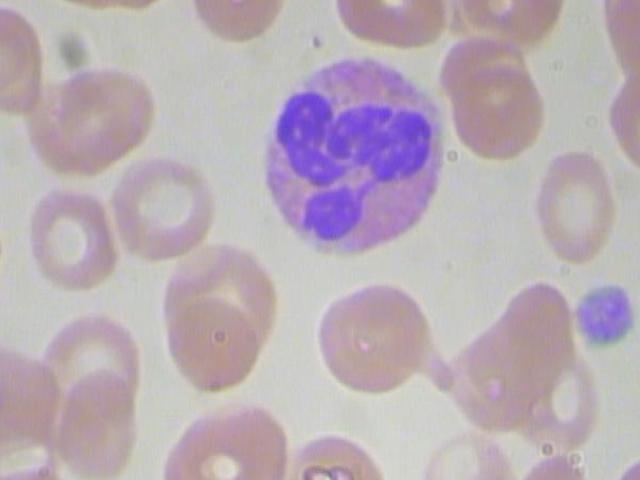Platelets: (571, 277, 640, 351)
RBC: (319, 274, 451, 399), (109, 145, 223, 266), (54, 57, 166, 170), (526, 143, 621, 268), (26, 173, 125, 292), (160, 392, 292, 480), (162, 288, 265, 395), (53, 369, 143, 480), (449, 63, 553, 159), (269, 428, 404, 480), (332, 0, 452, 58), (420, 428, 520, 480), (455, 0, 568, 43), (184, 0, 296, 43), (515, 445, 602, 480)
WBC: (256, 51, 451, 269)
